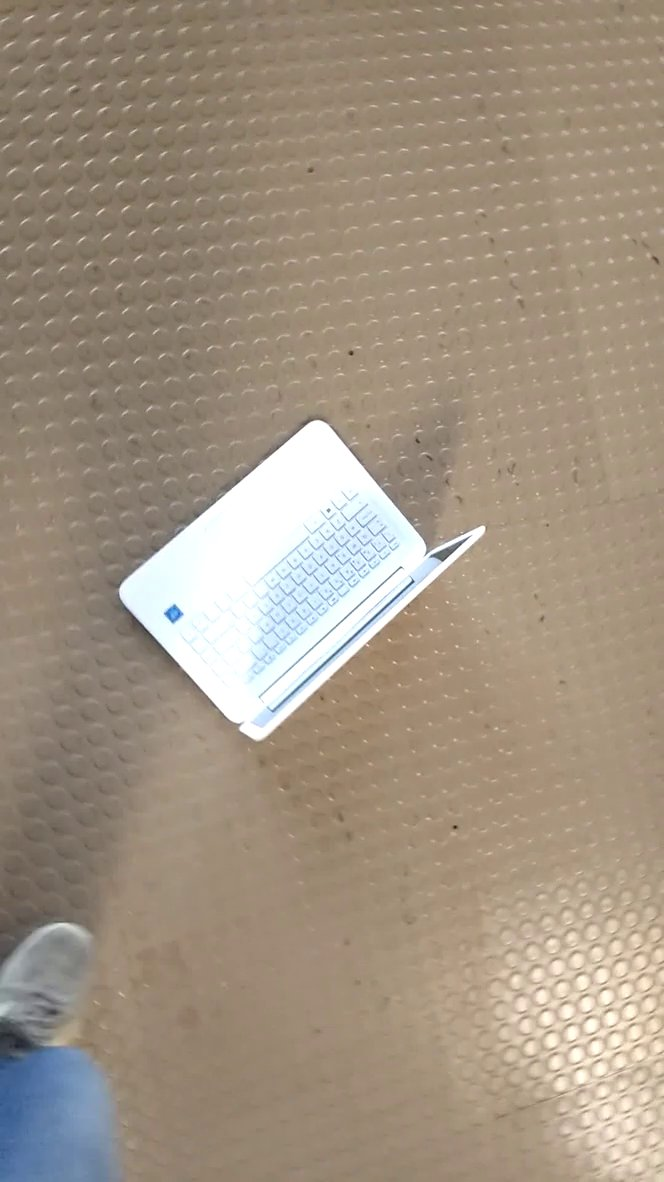laptop: (110, 407, 497, 756)
